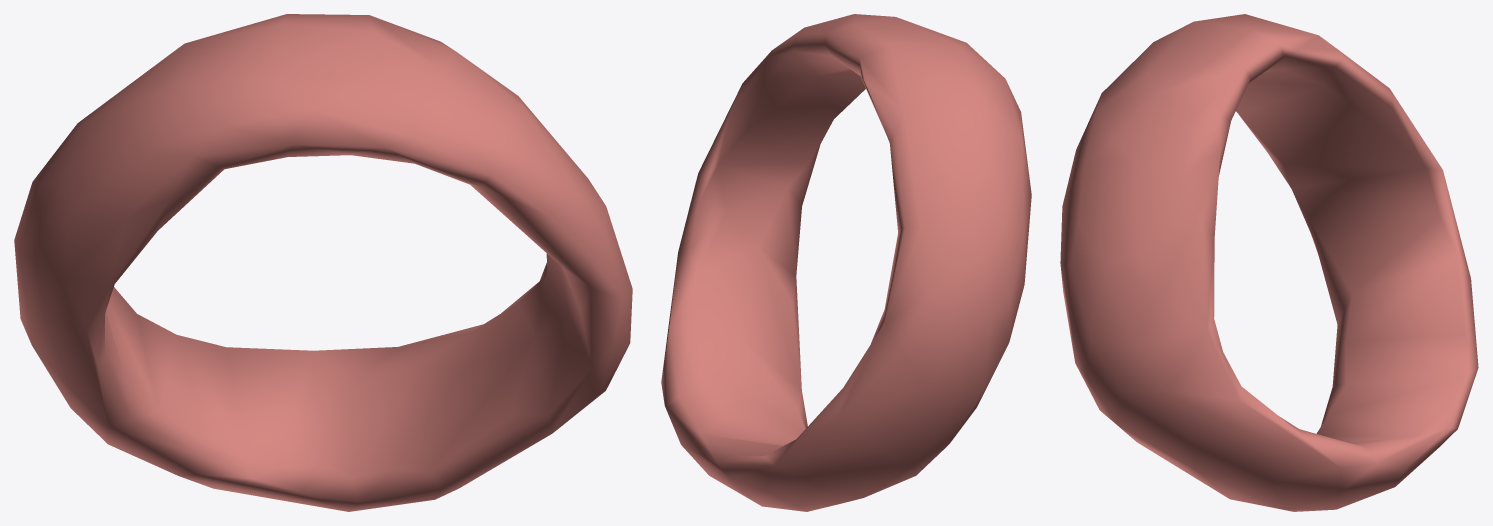
3 renders of one model, left to right at view 1: azimuth 30°, elevation 25°; view 2: azimuth 150°, elevation 25°; view 3: azimuth 270°, elevation 25°, orthographic. The views are drawn at different scales.
Visible parts, largest first — view 1: ZA_4946148150cca600; view 2: ZA_4946148150cca600; view 3: ZA_4946148150cca600.
Boxes of the visible parts, bbox=[...] form: ZA_4946148150cca600: bbox=[14, 14, 632, 511]; ZA_4946148150cca600: bbox=[661, 14, 1031, 511]; ZA_4946148150cca600: bbox=[1060, 14, 1478, 511].
Size of the model in its own units: 0.00626 by 0.0067 by 0.00584.
